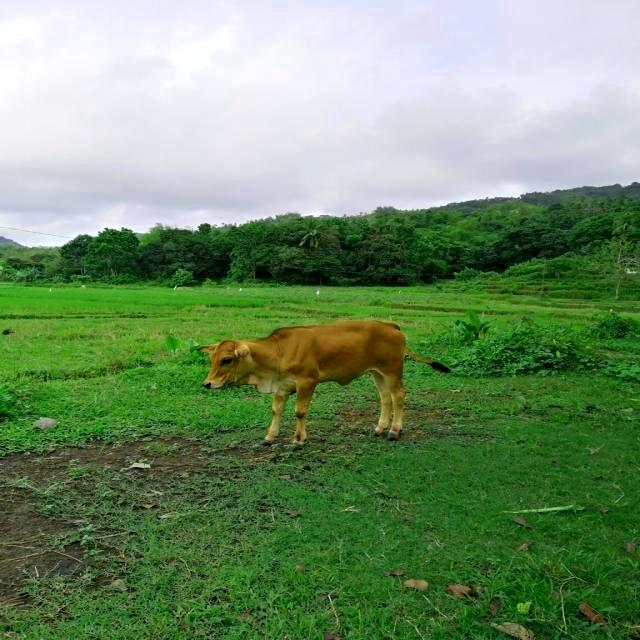COW: (204, 320, 406, 447)
